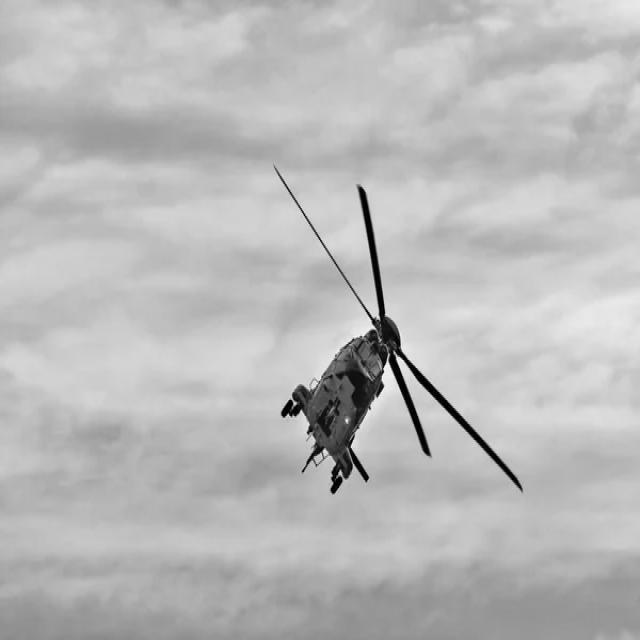Helicopter: (277, 168, 525, 494)
